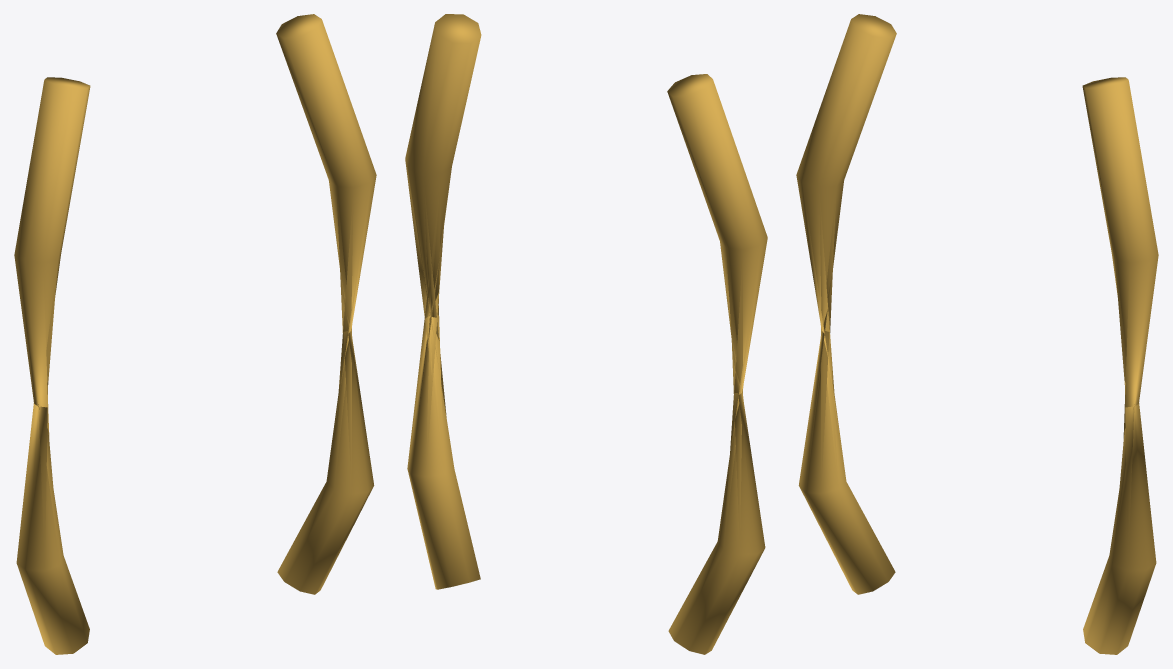
File: SiphonCage.fbx
The picture shows the model from 3 angles, left to right: view 1: azimuth 30°, elevation 25°; view 2: azimuth 150°, elevation 25°; view 3: azimuth 330°, elevation 25°; orthographic projection.
Visible parts, largest first — view 1: SiphonCage_Visual; view 2: SiphonCage_Visual; view 3: SiphonCage_Visual.
Boxes of the visible parts, bbox=[...] form: SiphonCage_Visual: bbox=[14, 14, 376, 654]; SiphonCage_Visual: bbox=[405, 14, 767, 654]; SiphonCage_Visual: bbox=[796, 14, 1158, 654].
Size of the model in its own units: 0.1531 by 0.2356 by 0.026.
